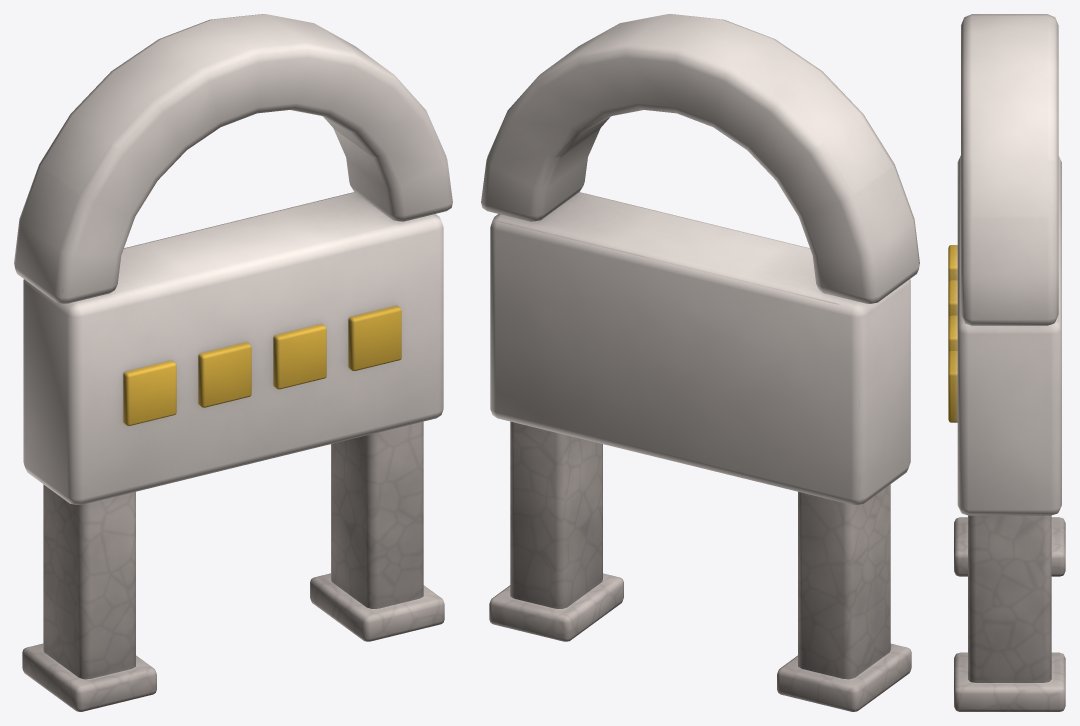
File: hs_obstacle_arch.glb
3 views of the same model, side by side, from view 1: azimuth 30°, elevation 25°; view 2: azimuth 150°, elevation 25°; view 3: azimuth 270°, elevation 25° (orthographic). The views are drawn at different scales.
Parts seen in each view (by area): view 1: hs_obstacle_arch; view 2: hs_obstacle_arch; view 3: hs_obstacle_arch.
Part boxes in pixels (left/top/right/bottom): hs_obstacle_arch: left=14, top=14, right=452, bottom=711; hs_obstacle_arch: left=481, top=14, right=919, bottom=711; hs_obstacle_arch: left=948, top=14, right=1065, bottom=711.
Size of the model in its own units: 3.18 by 4.7 by 0.84.
3 materials, 3 textured.
